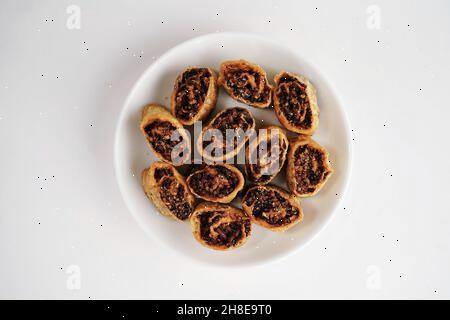bhakarwadi: (142, 56, 338, 251)
